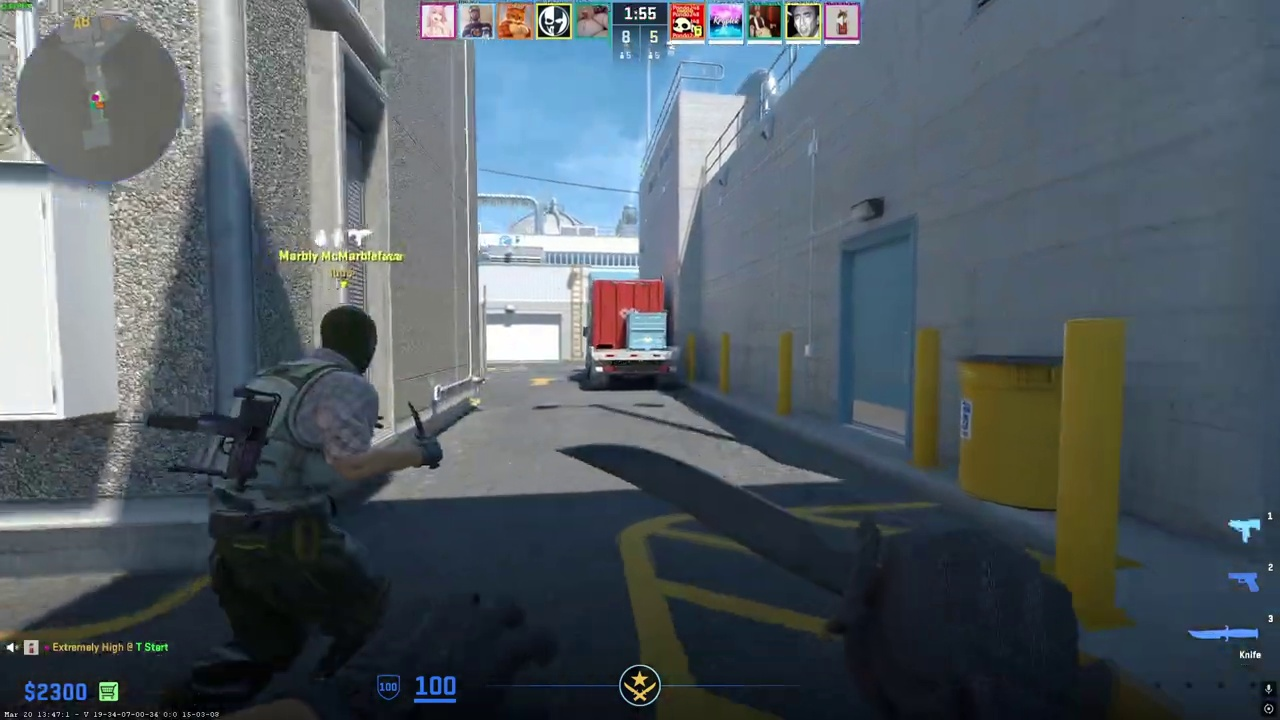Terrorist: (206, 304, 404, 709)
